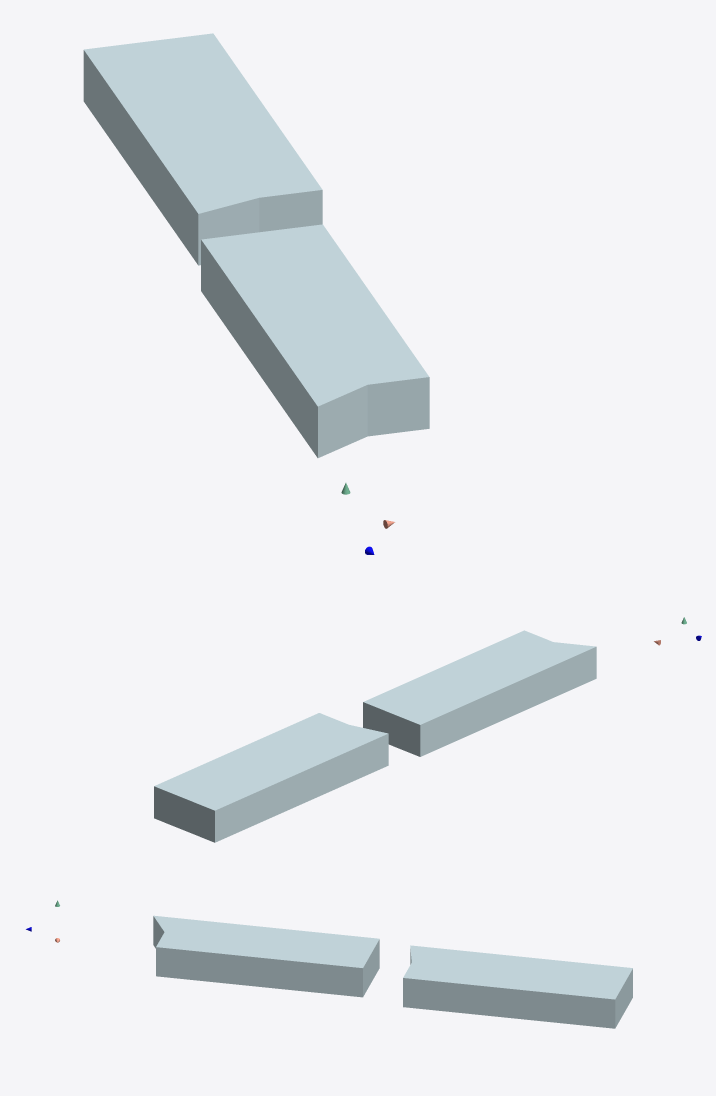
Rendered from polygons_test_wired_31-08-2026_21-21-29room_model.gltf.
The picture shows the model from 3 angles, top to bottom: view 1: azimuth 30°, elevation 25°; view 2: azimuth 150°, elevation 25°; view 3: azimuth 270°, elevation 25°; orthographic projection. The views are drawn at different scales.
Parts seen in each view (by area): view 1: Renderer Node; view 2: Renderer Node; view 3: Renderer Node.
Part boxes in pixels (left/top/right/bottom): Renderer Node: left=83, top=33, right=429, bottom=457; Renderer Node: left=154, top=630, right=596, bottom=842; Renderer Node: left=153, top=915, right=632, bottom=1028.
Size of the model in its own units: 11.63 by 1.08 by 21.33.
